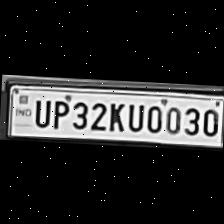0: (198, 104, 220, 134), (143, 100, 163, 132), (162, 101, 182, 133)
2: (88, 96, 106, 130)
3: (68, 97, 88, 129), (181, 103, 200, 135)
K: (105, 97, 125, 130)
P: (50, 96, 68, 128)
U: (124, 97, 144, 130), (30, 94, 50, 126)
